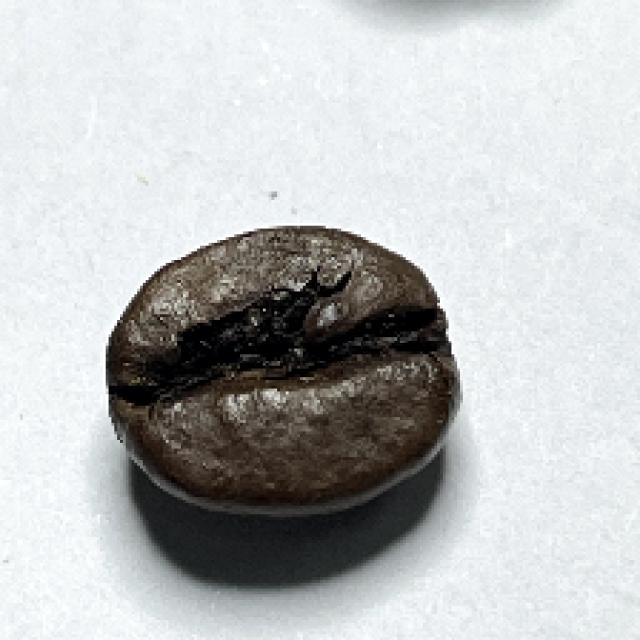bean: (102, 227, 457, 514)
